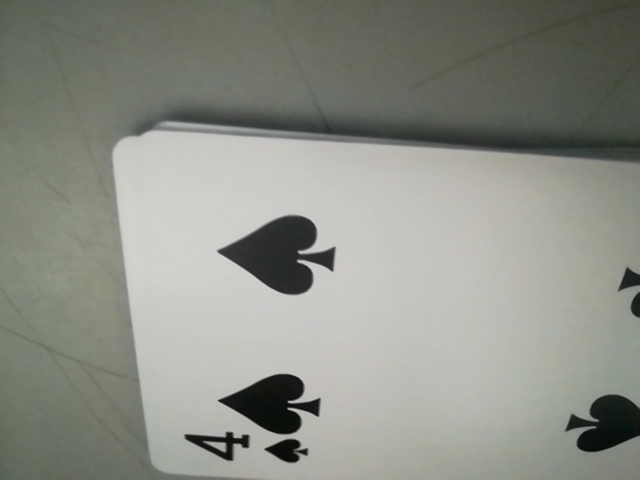ht 4: (172, 426, 325, 476)
